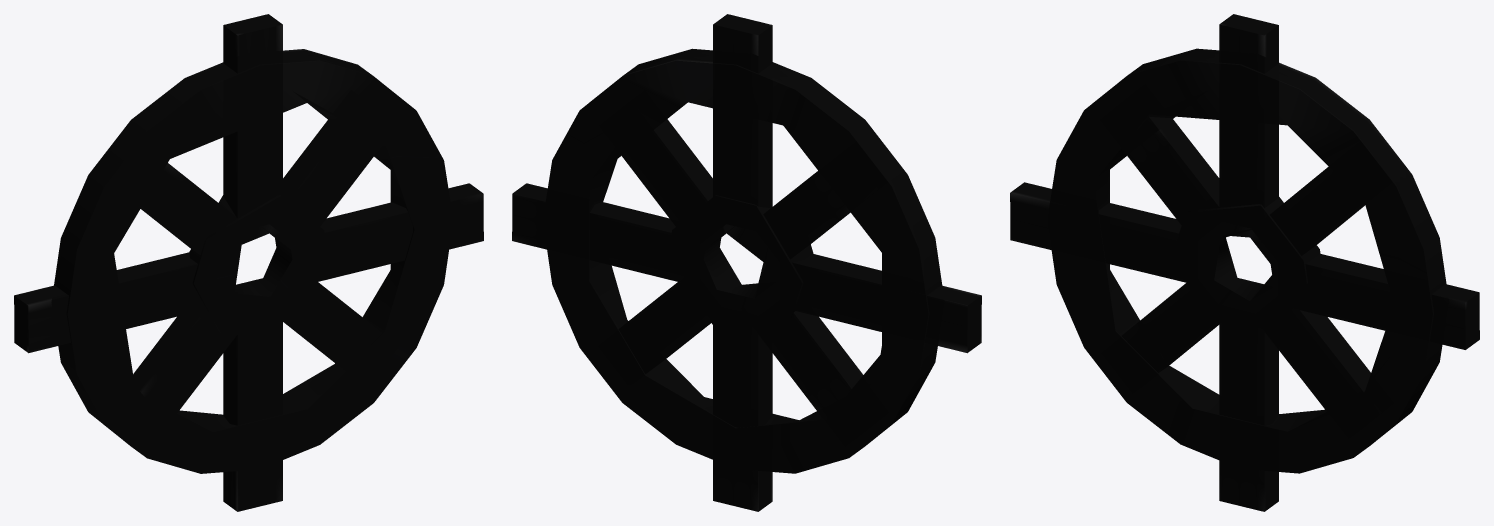
Rendered from BuddhistWheelSymbol.glb.
The picture shows the model from 3 angles, left to right: view 1: azimuth 30°, elevation 25°; view 2: azimuth 150°, elevation 25°; view 3: azimuth 330°, elevation 25°; orthographic projection.
Parts seen in each view (by area): view 1: BuddhistWheelSymbol; view 2: BuddhistWheelSymbol; view 3: BuddhistWheelSymbol.
Part boxes in pixels (x1,y1,x2,y2): BuddhistWheelSymbol: [14, 14, 483, 511]; BuddhistWheelSymbol: [512, 14, 981, 511]; BuddhistWheelSymbol: [1010, 14, 1479, 511].
Size of the model in its own units: 0.00993 by 0.00993 by 0.000611.
1 material, 1 textured.
